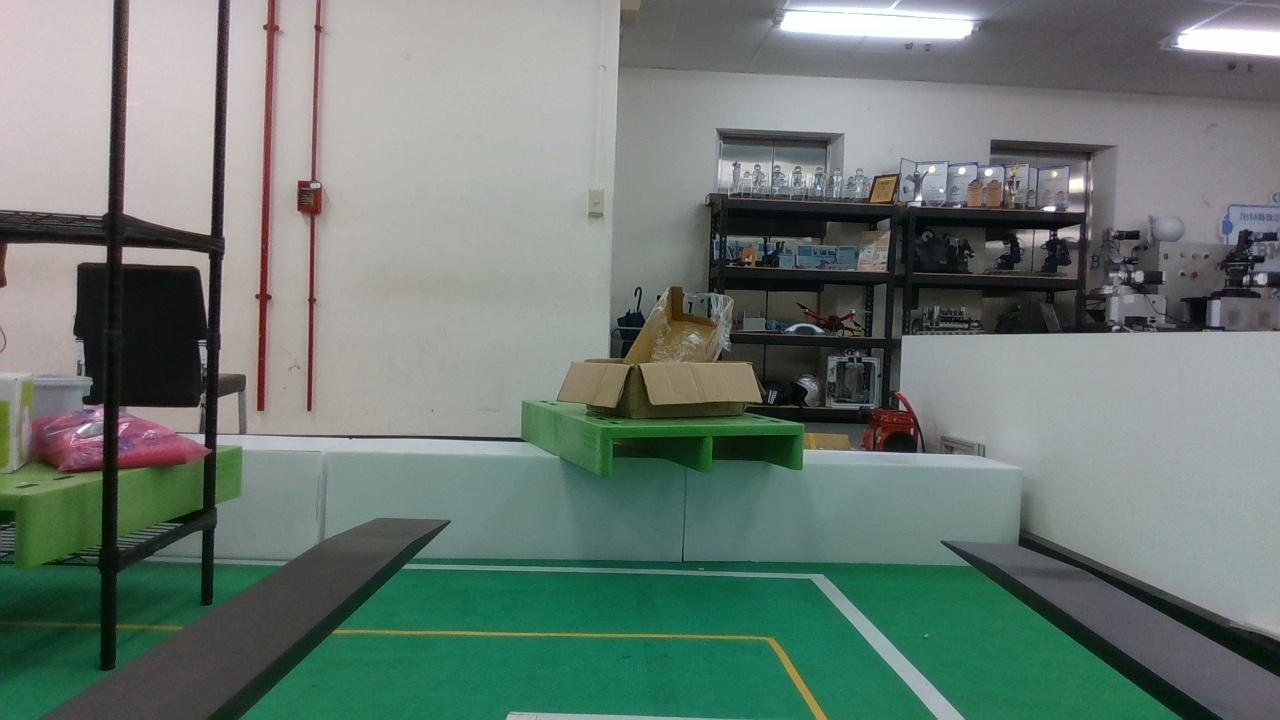Pallet: (592, 423, 806, 481)
